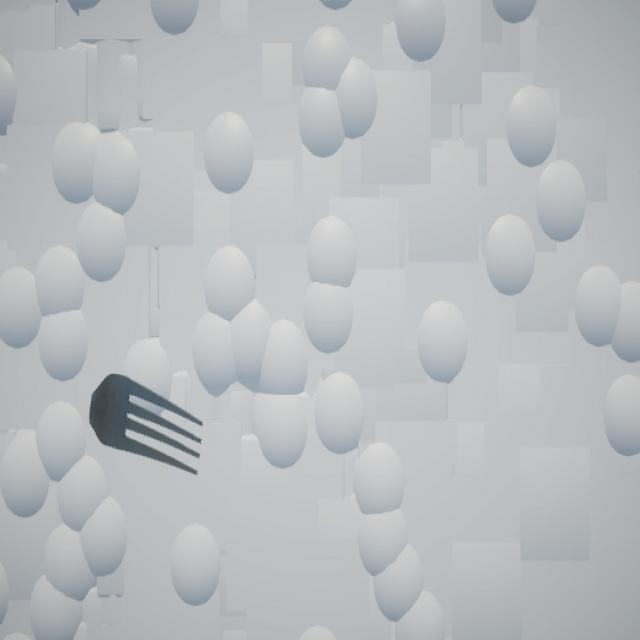top_folk: (91, 374, 205, 477)
